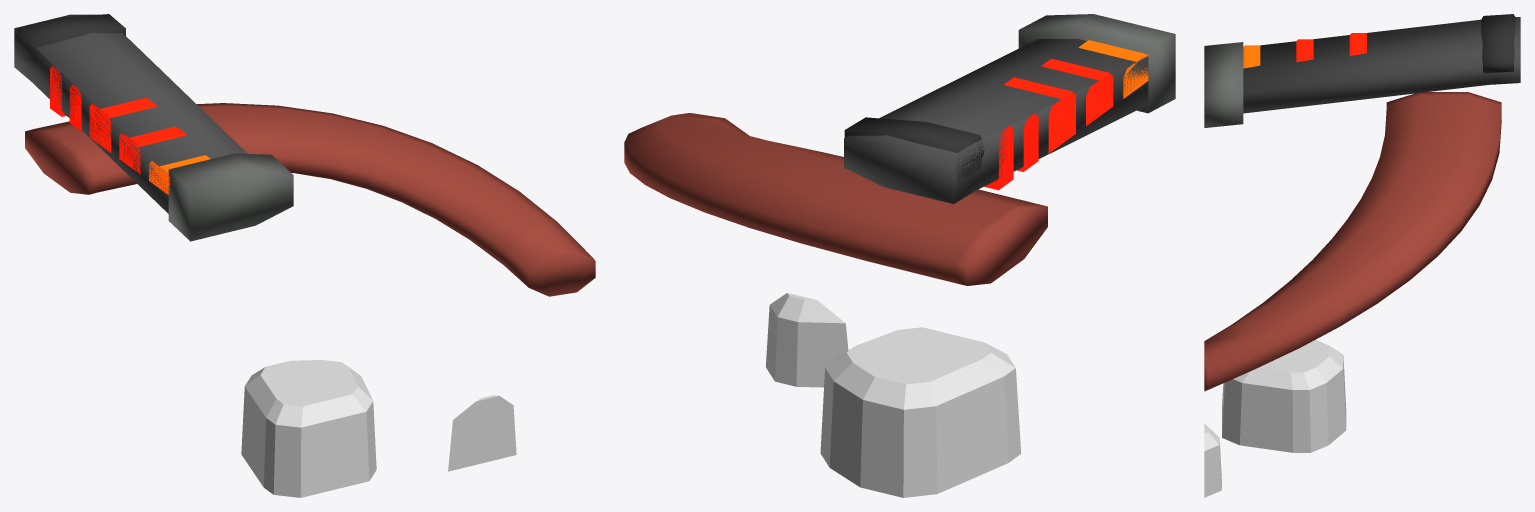
The model's file is newshi-5-f2.glb.
3 views of the same model, side by side, from view 1: azimuth 30°, elevation 25°; view 2: azimuth 150°, elevation 25°; view 3: azimuth 270°, elevation 25° (orthographic). The views are drawn at different scales.
Parts seen in each view (by area): view 1: newshi-5-f2; view 2: newshi-5-f2; view 3: newshi-5-f2.
Part boxes in pixels (box(x1,y1,x2,y2)): newshi-5-f2: box(14, 14, 595, 497); newshi-5-f2: box(624, 14, 1175, 497); newshi-5-f2: box(1204, 14, 1520, 497).
Bounding box in the file's own units: 1.97 × 1.76 × 1.48.
